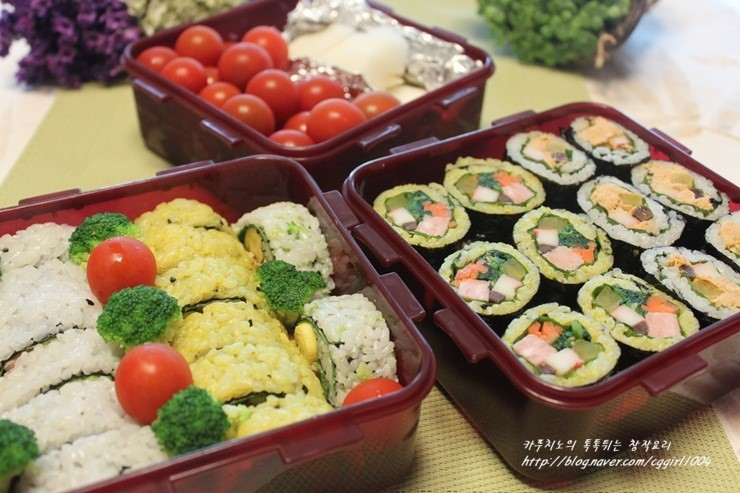gimbab: (366, 110, 740, 394)
